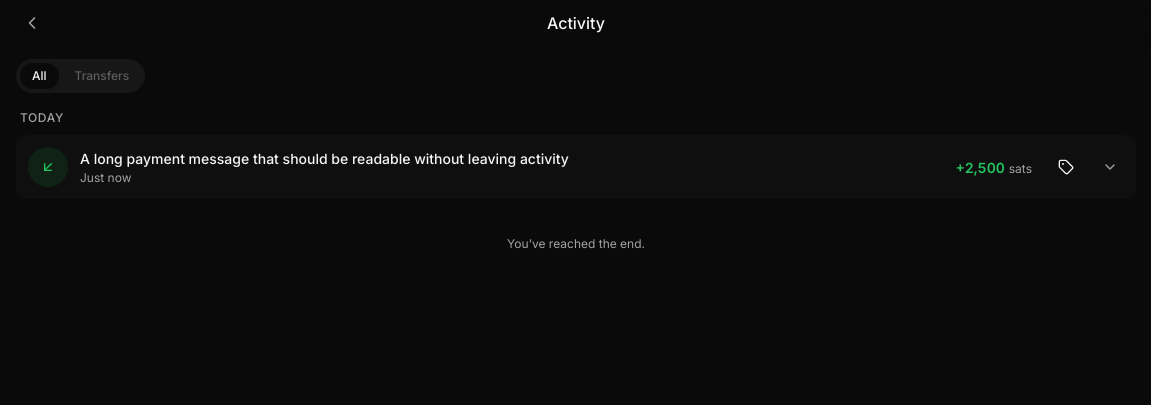
it: ActivityScreen quick transaction information › distinguishes a pending label request from an empty label
Click the button named "Expand transaction information": (1110,167) [1088,145,1132,189]
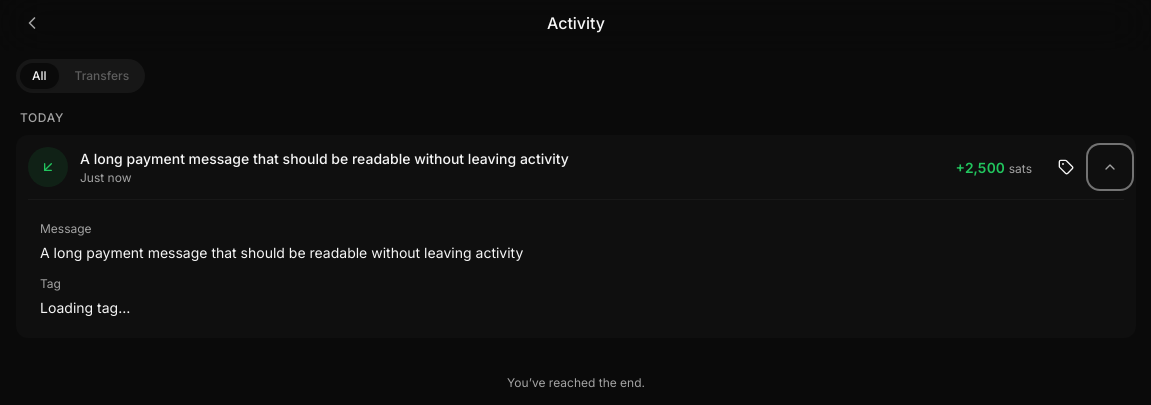
Result: the text "Loading tag…" is shown at [40,299,130,316]
